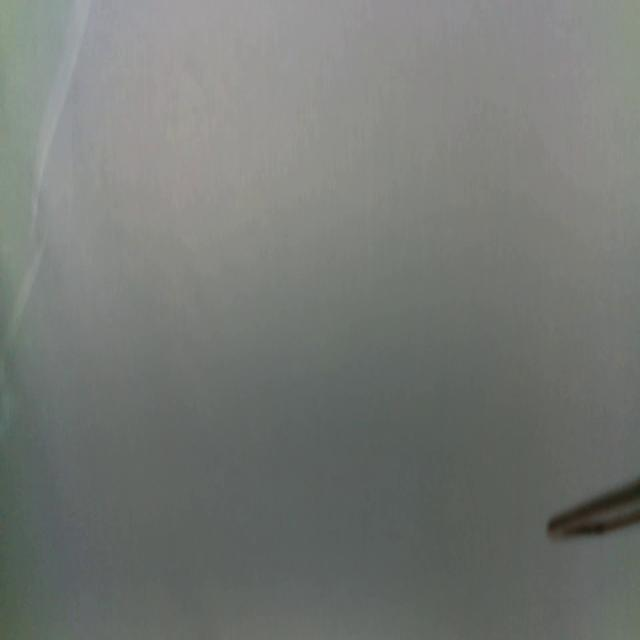crease: (28, 0, 91, 240), (1, 233, 49, 361)
